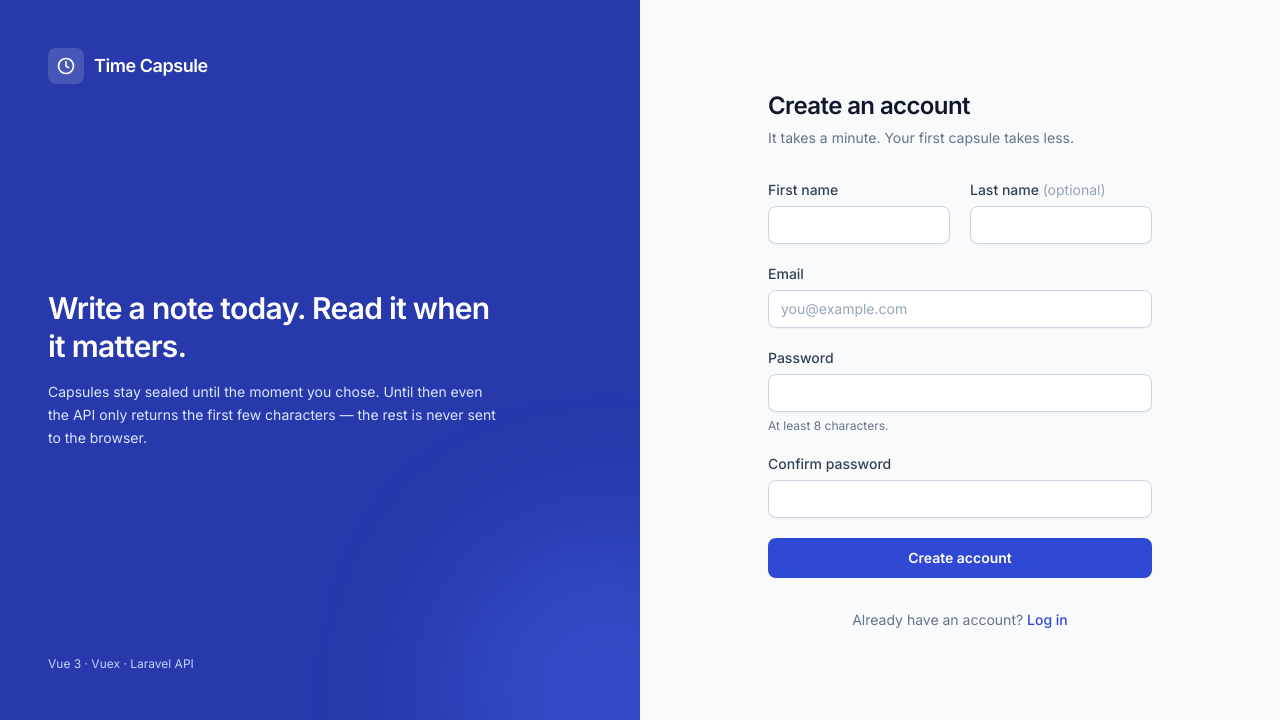
it: SignupView › catches a mismatched confirmation before it reaches the API
The width and height of the screenshot is (1280, 720).
In the field with id "firstName": (859, 225) x1=768 y1=206 x2=950 y2=244, type "Dana"
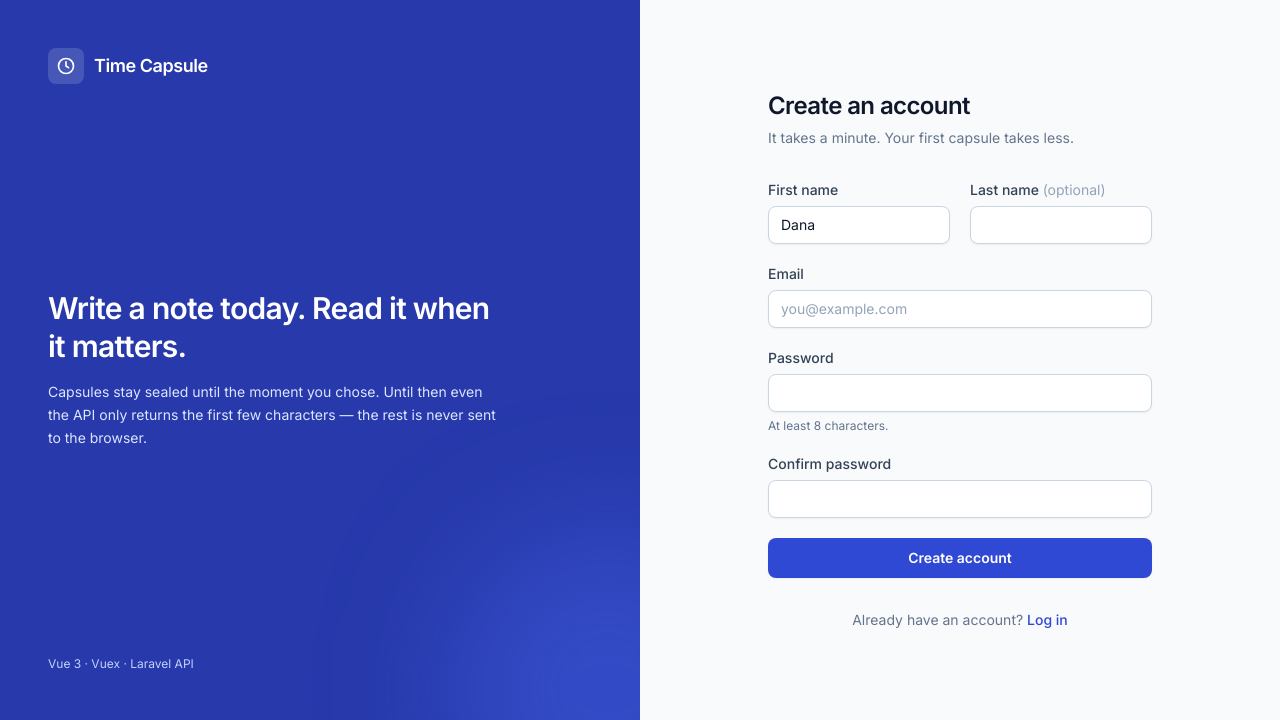
In the field with id "lastName": (1061, 225) x1=970 y1=206 x2=1152 y2=244, type "Ruiz"
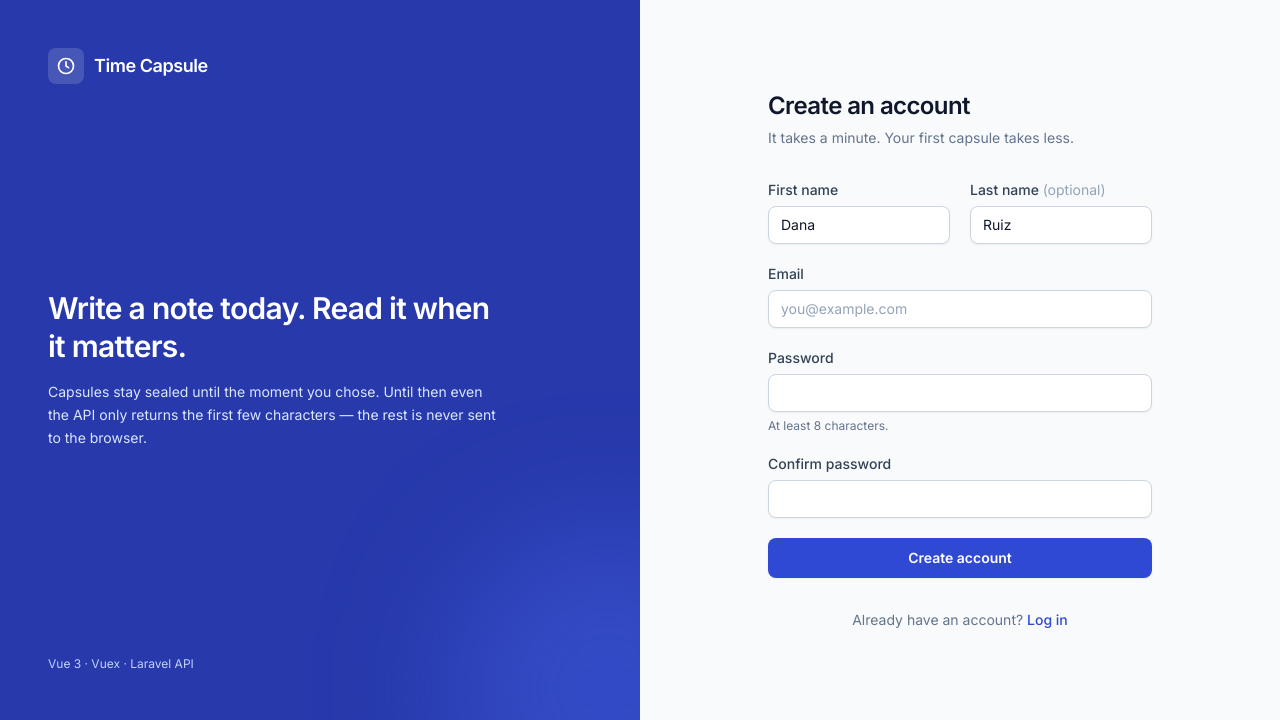
In the field with id "email": (960, 309) x1=768 y1=290 x2=1152 y2=328, type "dana@example.com"
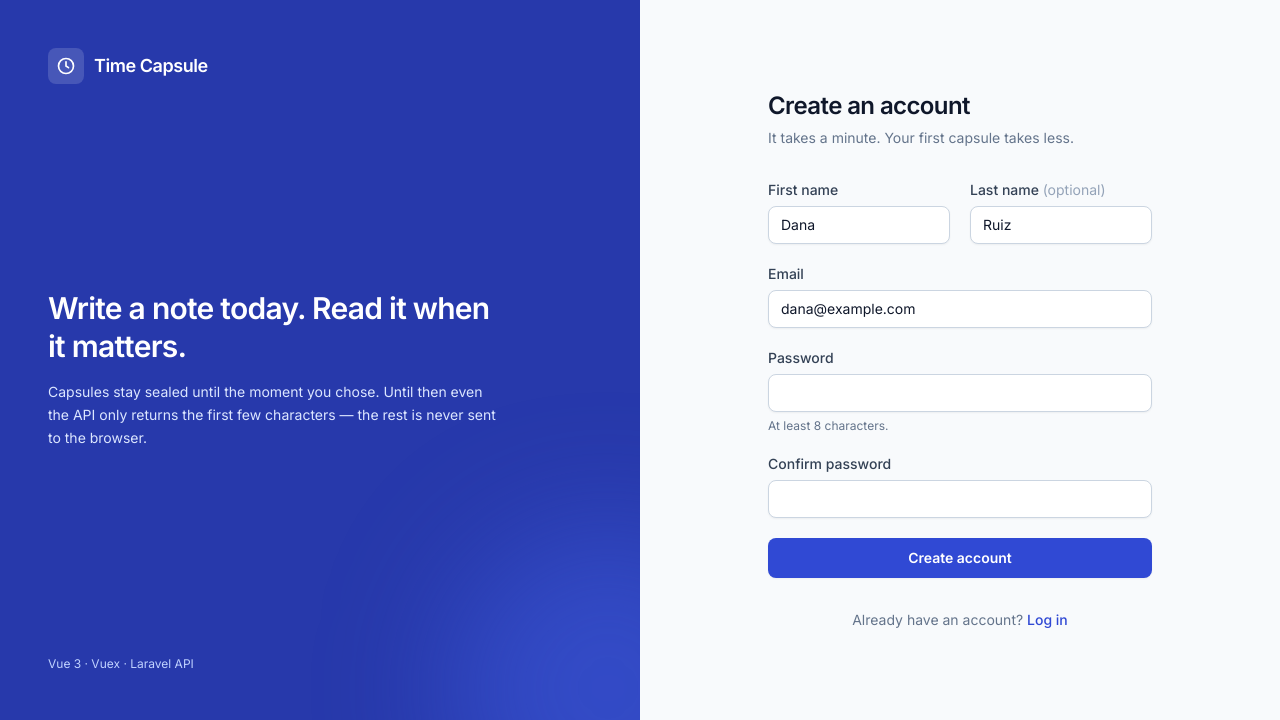
In the password field labelled "Password": (960, 393) x1=768 y1=374 x2=1152 y2=412, type "secret123"
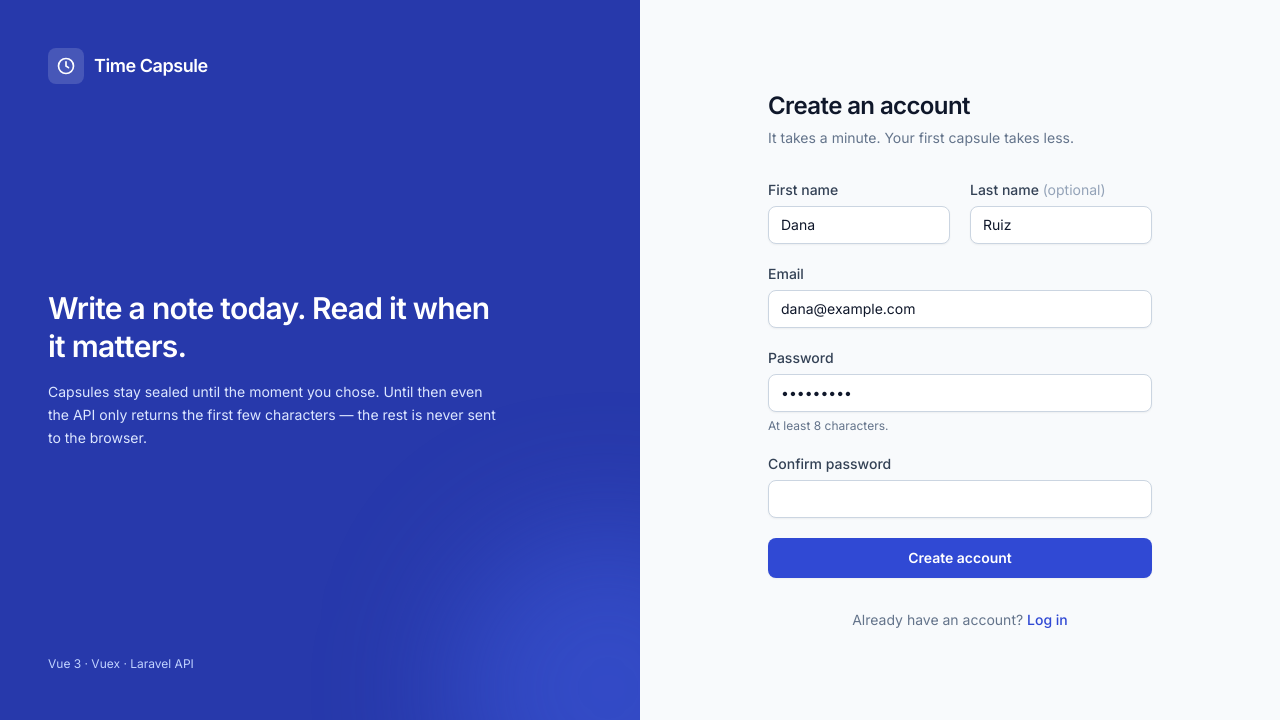
In the password field labelled "Confirm password": (960, 499) x1=768 y1=480 x2=1152 y2=518, type "different"
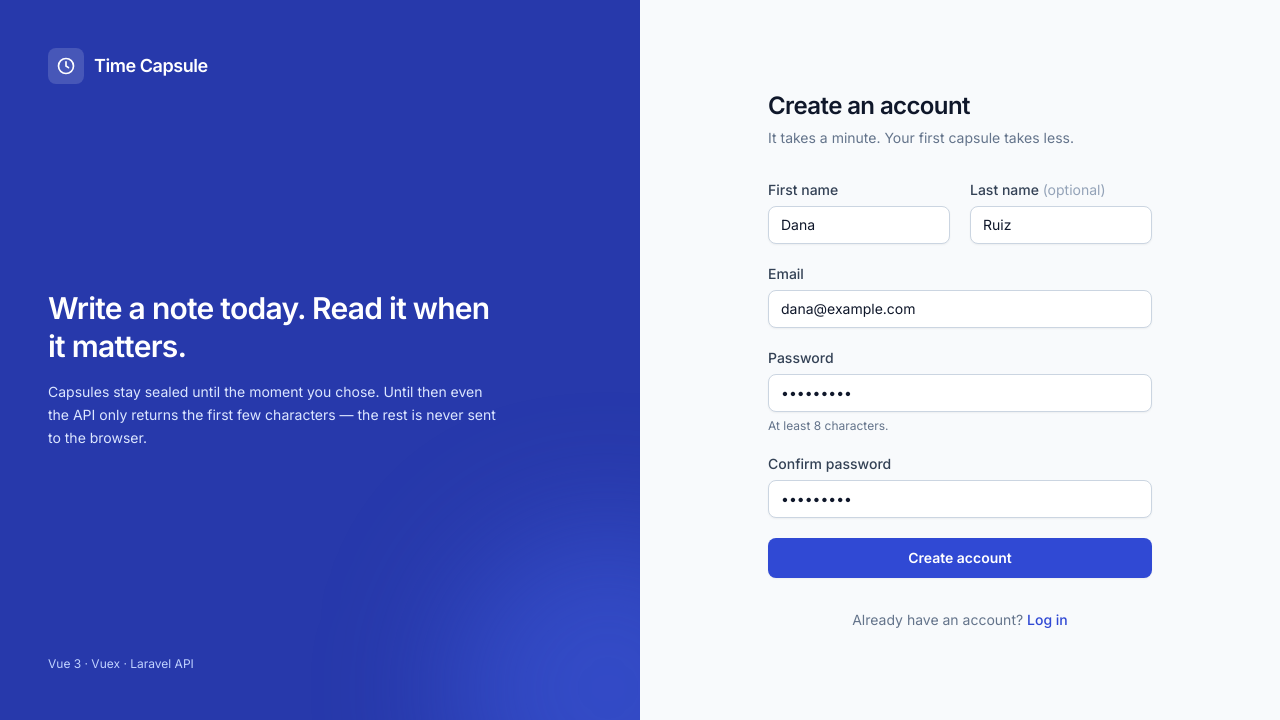
Submit the form, box x1=768 y1=180 x2=1152 y2=578
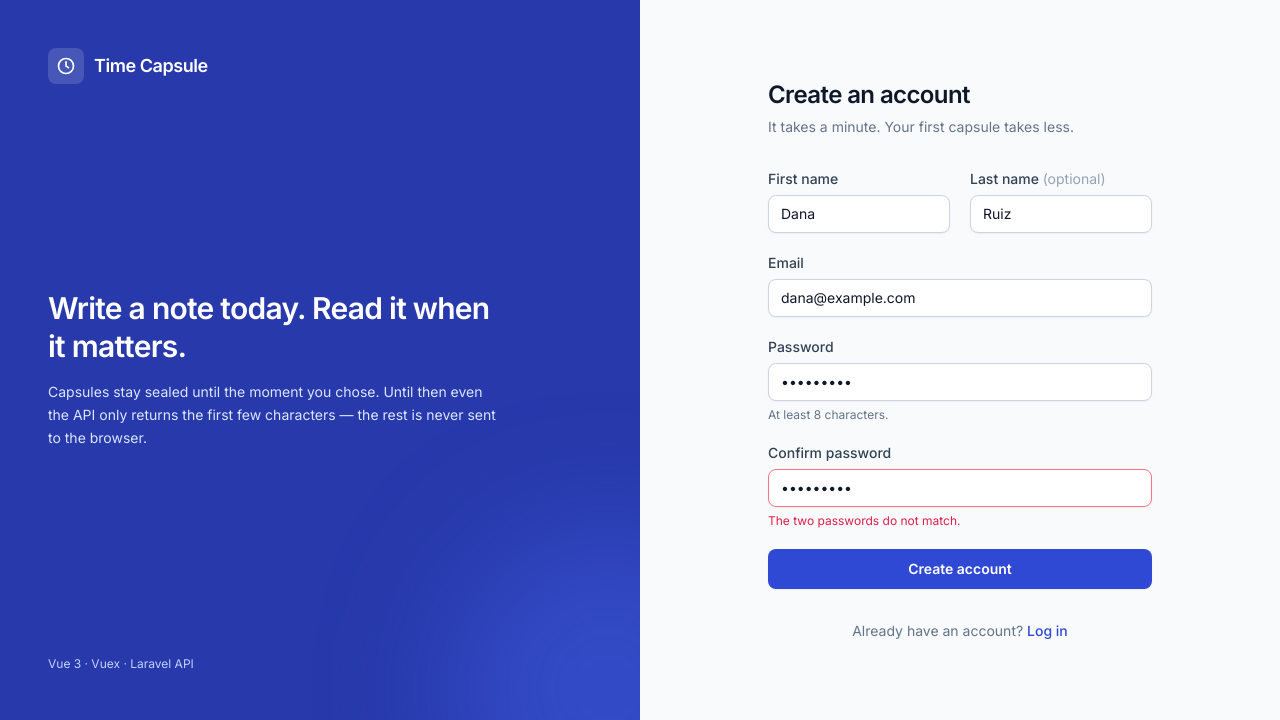
Expected: the text "The two passwords do not match." is shown, x1=768 y1=513 x2=960 y2=528
